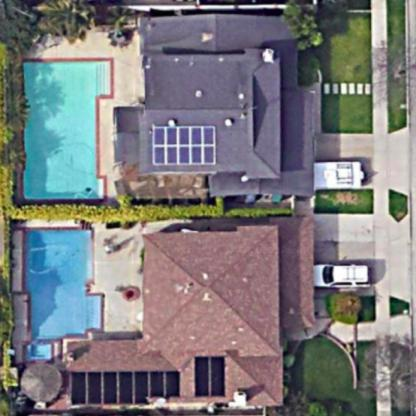car: (301, 250, 372, 291)
solar_panel: (65, 361, 180, 411), (146, 112, 221, 168), (188, 349, 240, 407)
swimming_pool: (16, 48, 118, 207), (12, 216, 110, 358)
